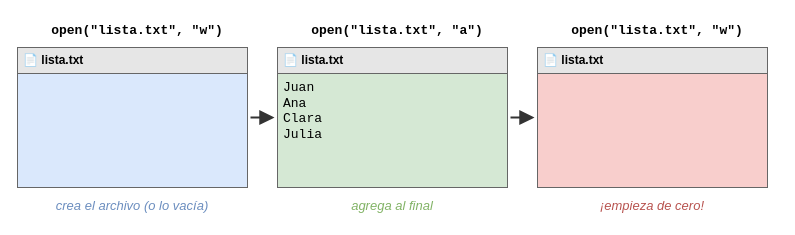
Image size: 795x235. Some labels were removed from this diagram. Each missing label, with the centre of its shape:
"Juan Ana" goes at point (132, 130).
"Pedro" goes at point (652, 130).
